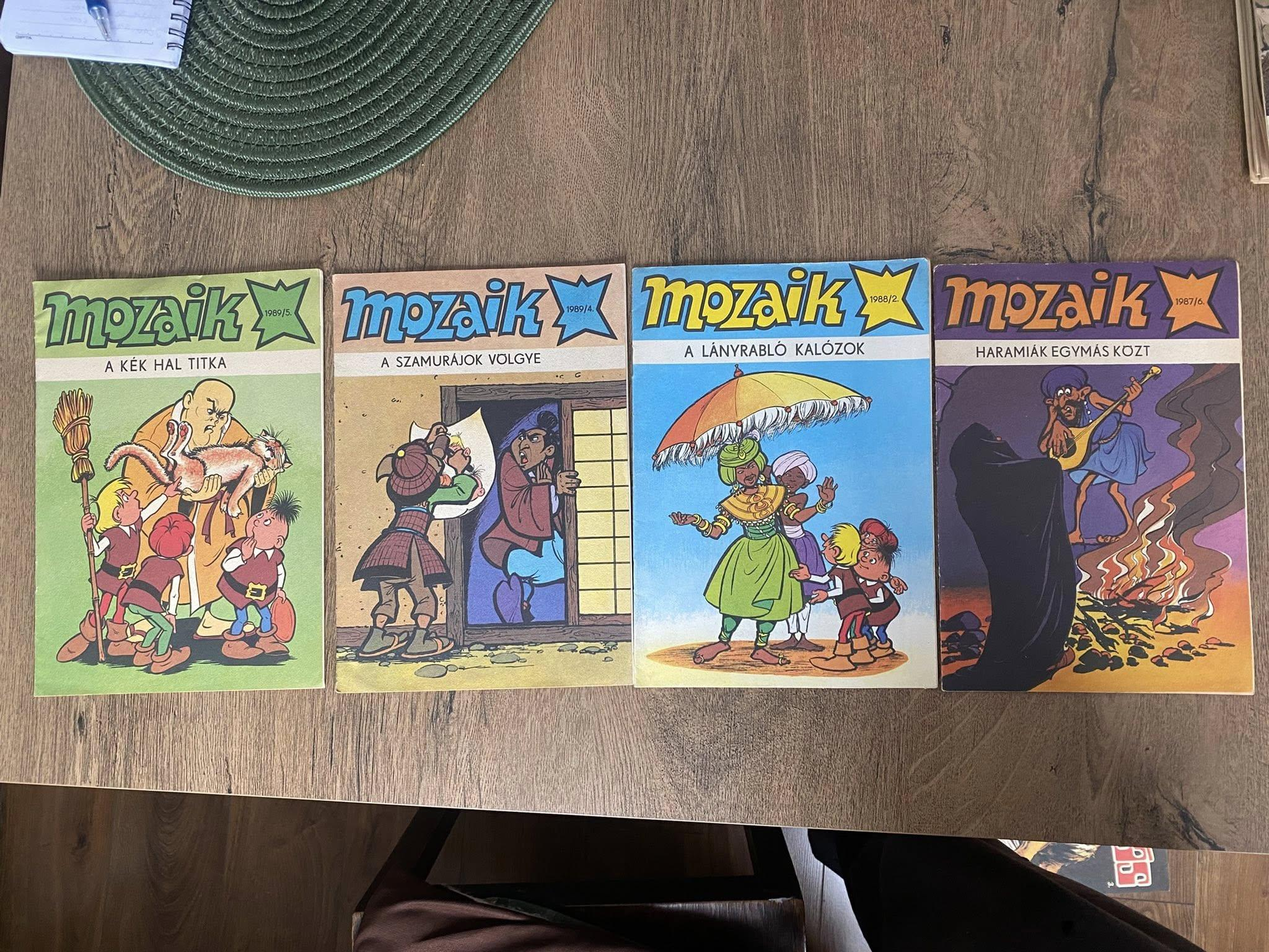comic: (932, 259, 1253, 699), (629, 259, 938, 691), (335, 265, 631, 691), (35, 270, 323, 694)
